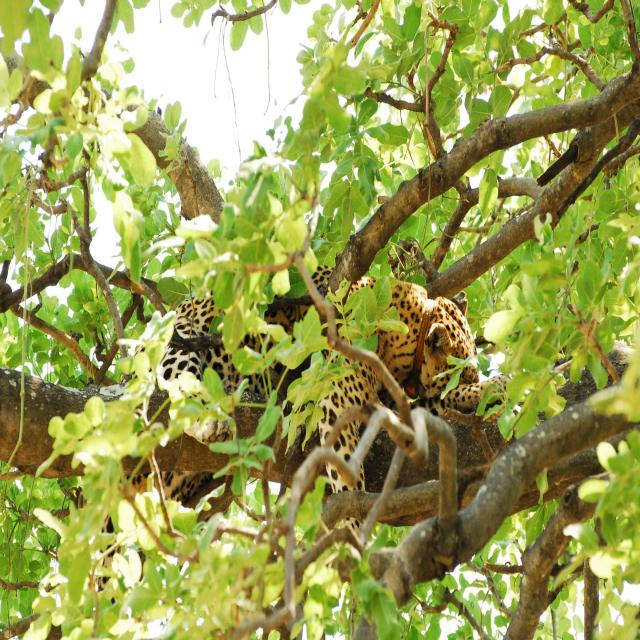Leopard: (156, 253, 498, 530)
